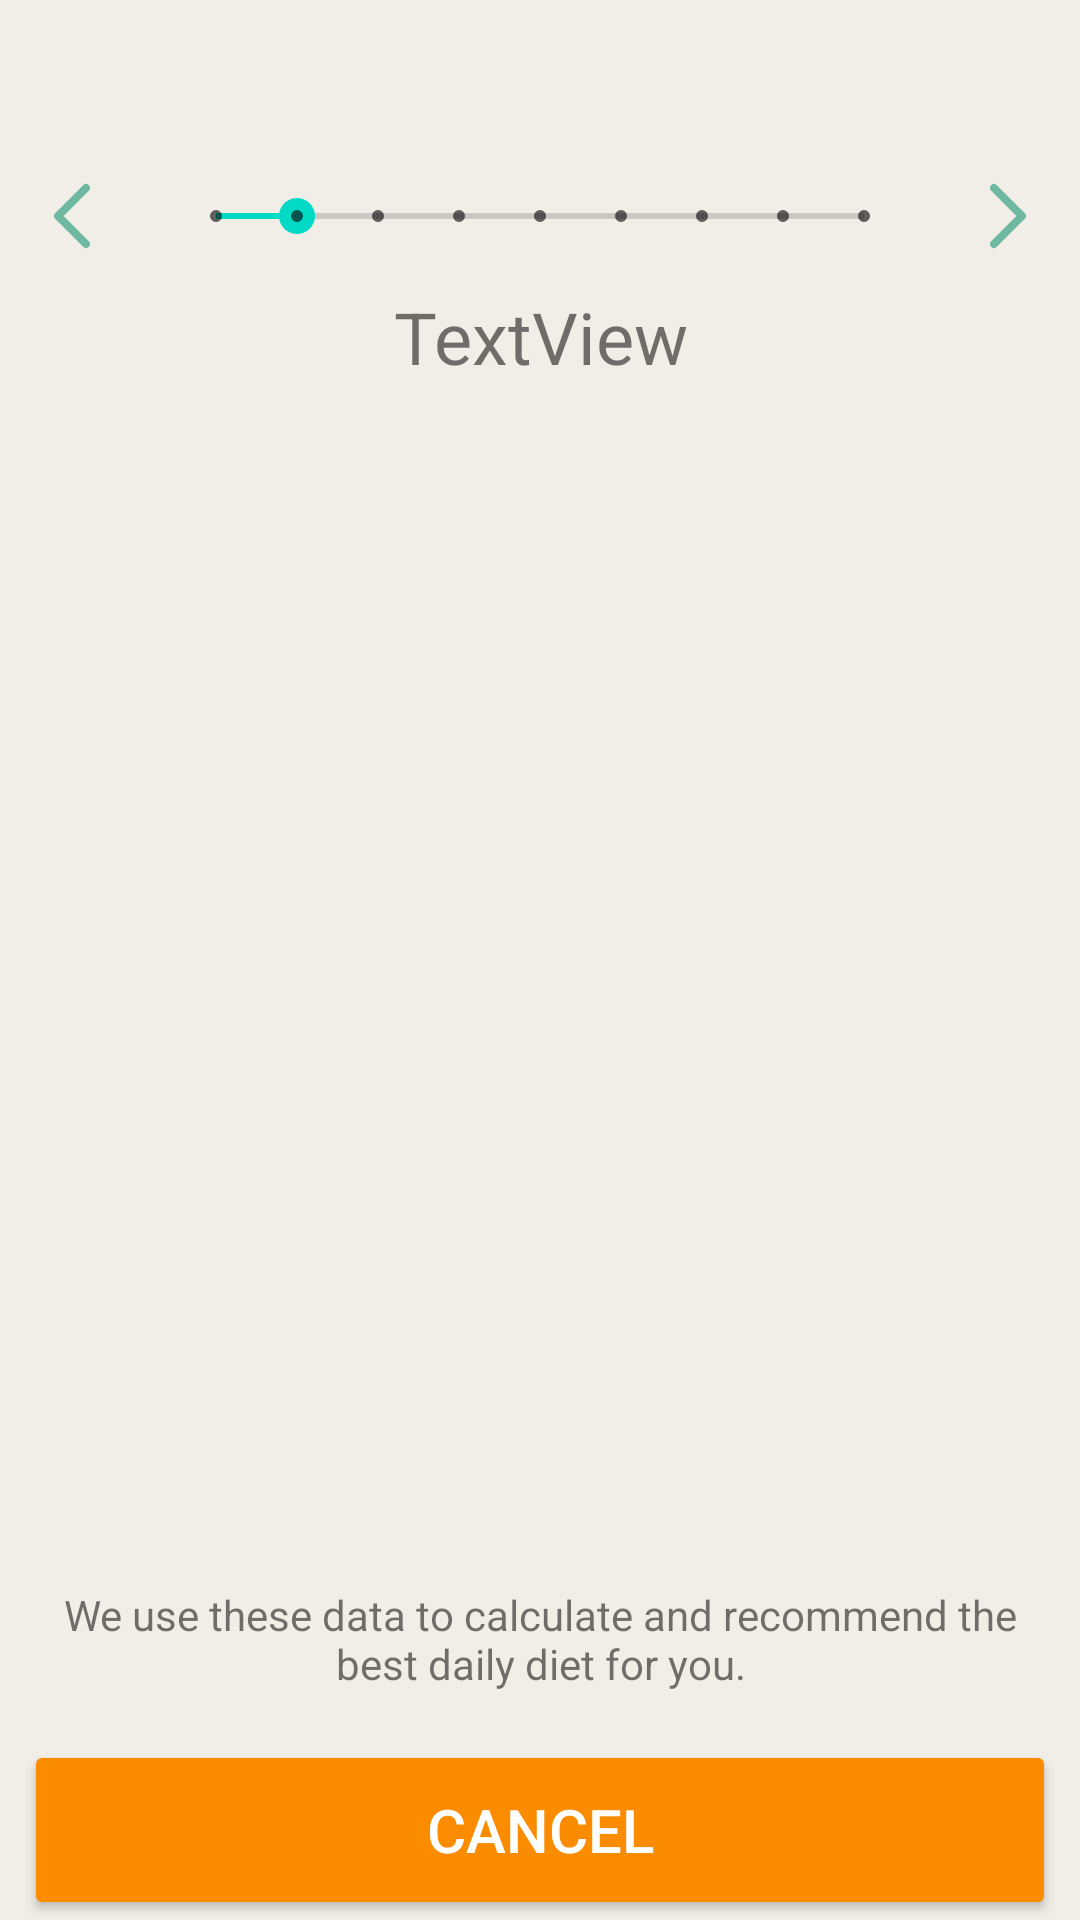

Icon click points for this 1080×1920 phone screenshot, format point (x, y):
back: point (72, 215)
forward: point (1008, 215)
